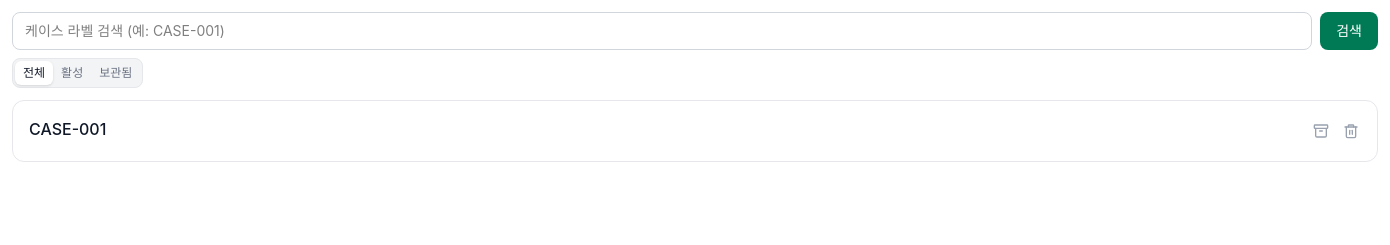
Scenario: 환자 목록 삭제 액션 › 취소하면 삭제하지 않고 카드로 돌아간다
This screenshot has width=1390, height=245.
Click the button named "CASE-001 삭제" at (1351, 131), box x1=1337 y1=117 x2=1365 y2=145
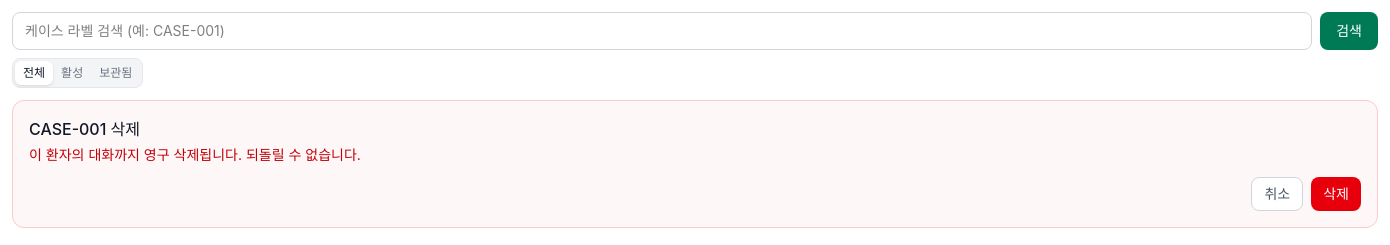
Click the button "취소" at (1277, 194), box x1=1252 y1=177 x2=1303 y2=211
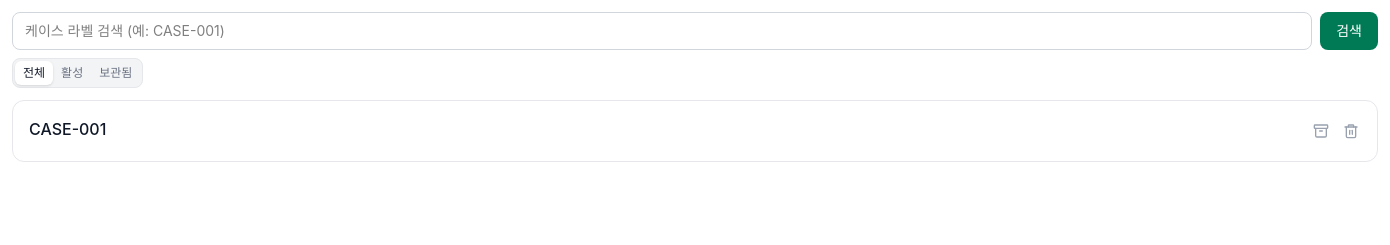
Expected: the button "CASE-001" is shown, x1=13 y1=101 x2=1307 y2=161
Result: the text "이 환자의 대화까지 영구 삭제됩니다. 되돌릴 수 없습니다." is gone
